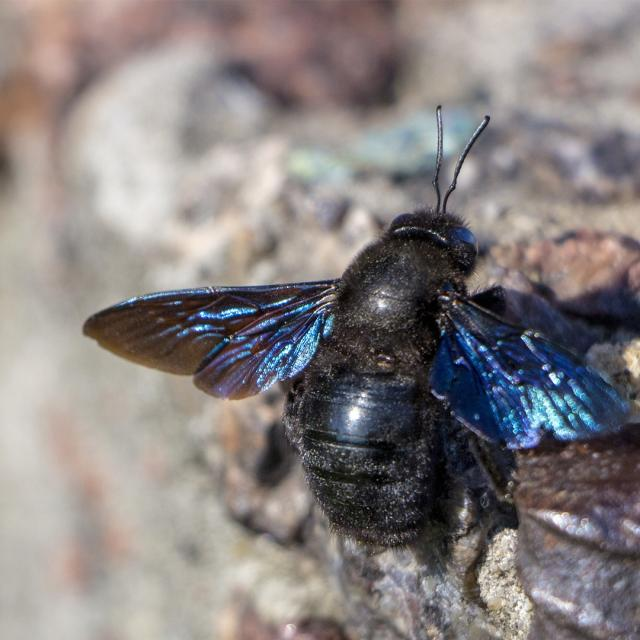Xylocopa: (83, 98, 632, 583)
